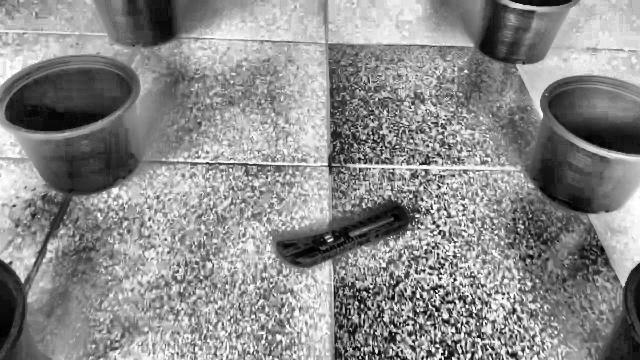pot: (0, 55, 144, 196), (528, 76, 640, 216)
